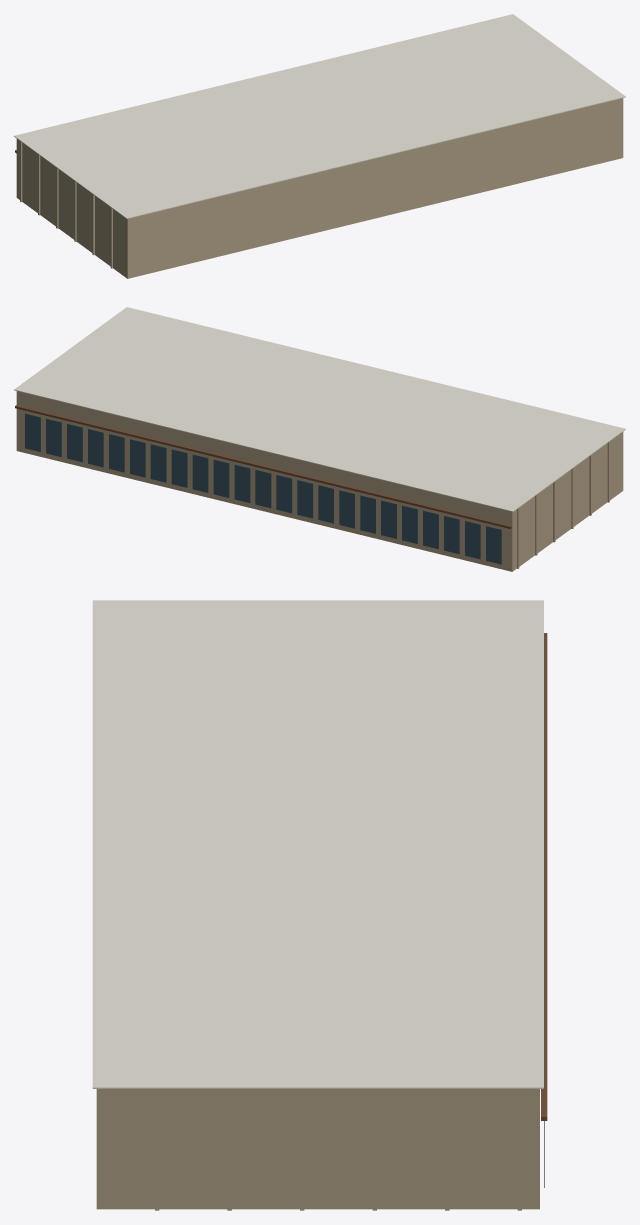
File: KOL_T1_JW__Podium_Base.fbx
3 views of the same model, one above another, from view 1: azimuth 30°, elevation 25°; view 2: azimuth 150°, elevation 25°; view 3: azimuth 270°, elevation 25° (orthographic). The views are drawn at different scales.
Visible parts, largest first — view 1: KOL_T1_JW__Podium_Base__KOL_T1_Pearl, KOL_T1_JW__Podium_Base__KOL_T1_Stone; view 2: KOL_T1_JW__Podium_Base__KOL_T1_Pearl, KOL_T1_JW__Podium_Base__KOL_T1_Stone, KOL_T1_JW__Podium_Base__KOL_T1_Glass, KOL_T1_JW__Podium_Base__KOL_T1_Louvre; view 3: KOL_T1_JW__Podium_Base__KOL_T1_Pearl, KOL_T1_JW__Podium_Base__KOL_T1_Stone, KOL_T1_JW__Podium_Base__KOL_T1_Louvre.
Boxes of the visible parts, bbox=[...] form: KOL_T1_JW__Podium_Base__KOL_T1_Pearl: bbox=[14, 14, 625, 218]; KOL_T1_JW__Podium_Base__KOL_T1_Stone: bbox=[16, 98, 623, 278]; KOL_T1_JW__Podium_Base__KOL_T1_Pearl: bbox=[14, 307, 625, 511]; KOL_T1_JW__Podium_Base__KOL_T1_Stone: bbox=[16, 391, 623, 571]; KOL_T1_JW__Podium_Base__KOL_T1_Glass: bbox=[25, 413, 501, 564]; KOL_T1_JW__Podium_Base__KOL_T1_Louvre: bbox=[15, 405, 512, 528]; KOL_T1_JW__Podium_Base__KOL_T1_Pearl: bbox=[92, 600, 543, 1088]; KOL_T1_JW__Podium_Base__KOL_T1_Stone: bbox=[96, 1089, 539, 1210]; KOL_T1_JW__Podium_Base__KOL_T1_Louvre: bbox=[541, 633, 547, 1120].
Bounding box in the file's own units: 286 × 33.8 × 113.
